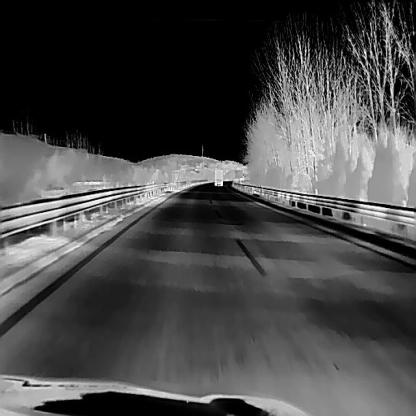truck: (214, 166, 223, 185)
